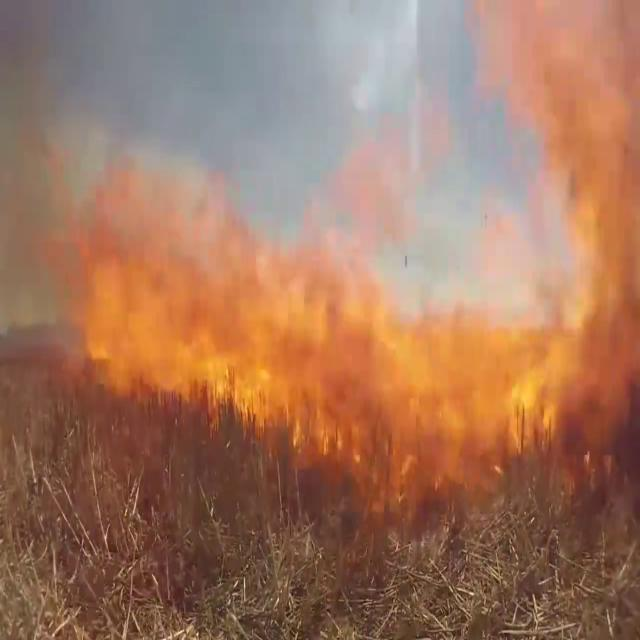Fire: (45, 127, 627, 482)
Smoke: (487, 1, 640, 466)
